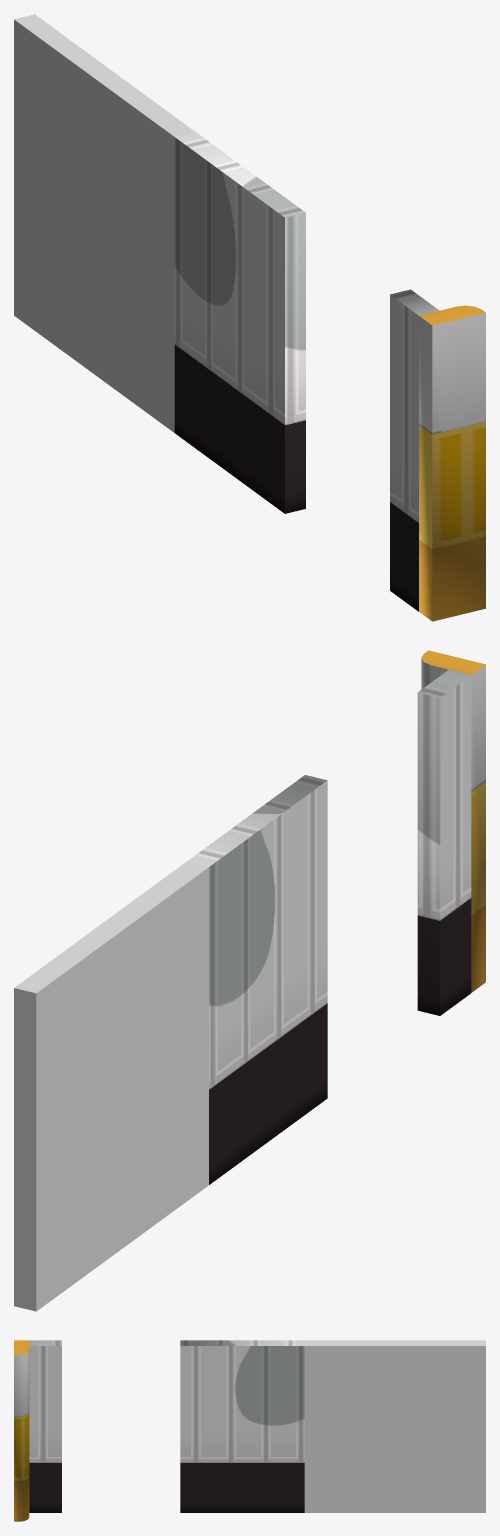
3 views of the same model, one above another, from view 1: azimuth 30°, elevation 25°; view 2: azimuth 150°, elevation 25°; view 3: azimuth 270°, elevation 25° (orthographic). The views are drawn at different scales.
Parts seen in each view (by area): view 1: 立方體.004, 立方體.005; view 2: 立方體.005, 立方體.004; view 3: 立方體.005, 立方體.004.
Boxes of the visible parts, x1,y1,x2,y2 form: 立方體.004: (174, 132, 485, 621); 立方體.005: (14, 14, 194, 432); 立方體.005: (14, 861, 208, 1311); 立方體.004: (187, 650, 485, 1184); 立方體.005: (304, 1340, 485, 1512); 立方體.004: (14, 1340, 304, 1521).
Bounding box in the file's own units: 105 × 555 × 1421.
